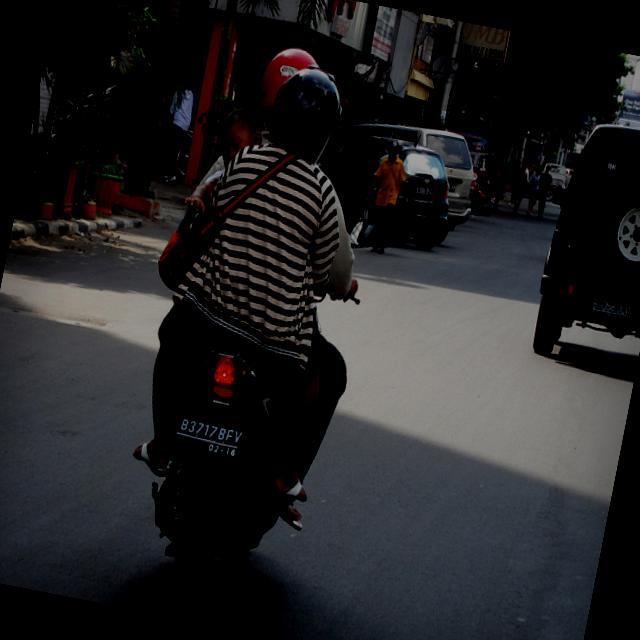Vehicle: (125, 328, 313, 619), (522, 109, 640, 372), (309, 126, 464, 252), (348, 112, 490, 244), (390, 144, 458, 216), (466, 149, 508, 190), (542, 161, 571, 189), (566, 166, 574, 176)
